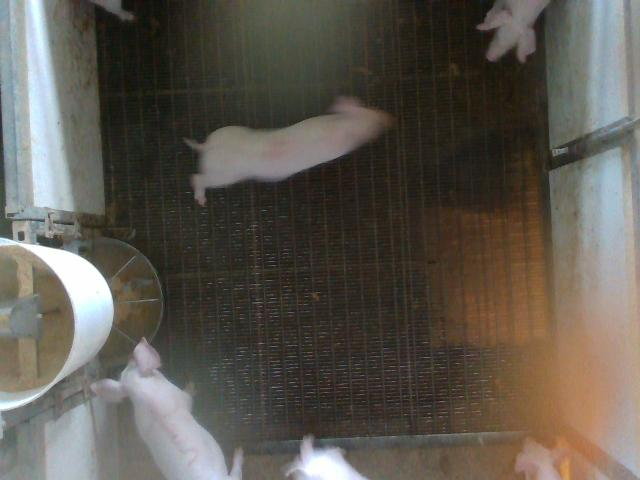pig-3: (91, 339, 241, 479)
pig-4: (184, 96, 392, 204)
